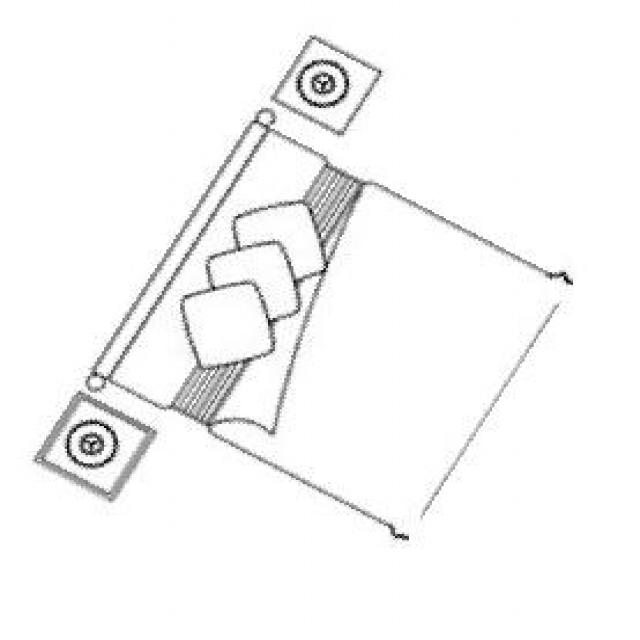bed: (30, 31, 571, 626)
